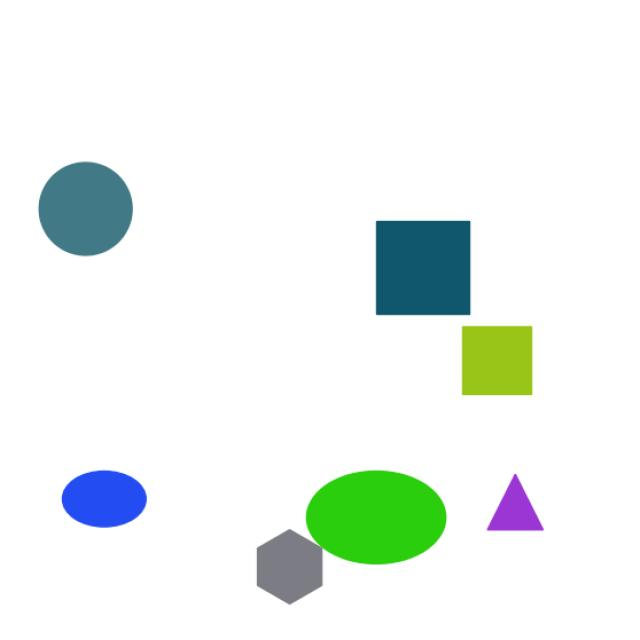Circle: (13, 147, 146, 265)
Hexagon: (245, 530, 348, 621)
Oval: (293, 468, 452, 565), (54, 457, 160, 548)
Triangle: (473, 458, 566, 548)
square: (367, 205, 482, 326), (446, 307, 556, 403)
